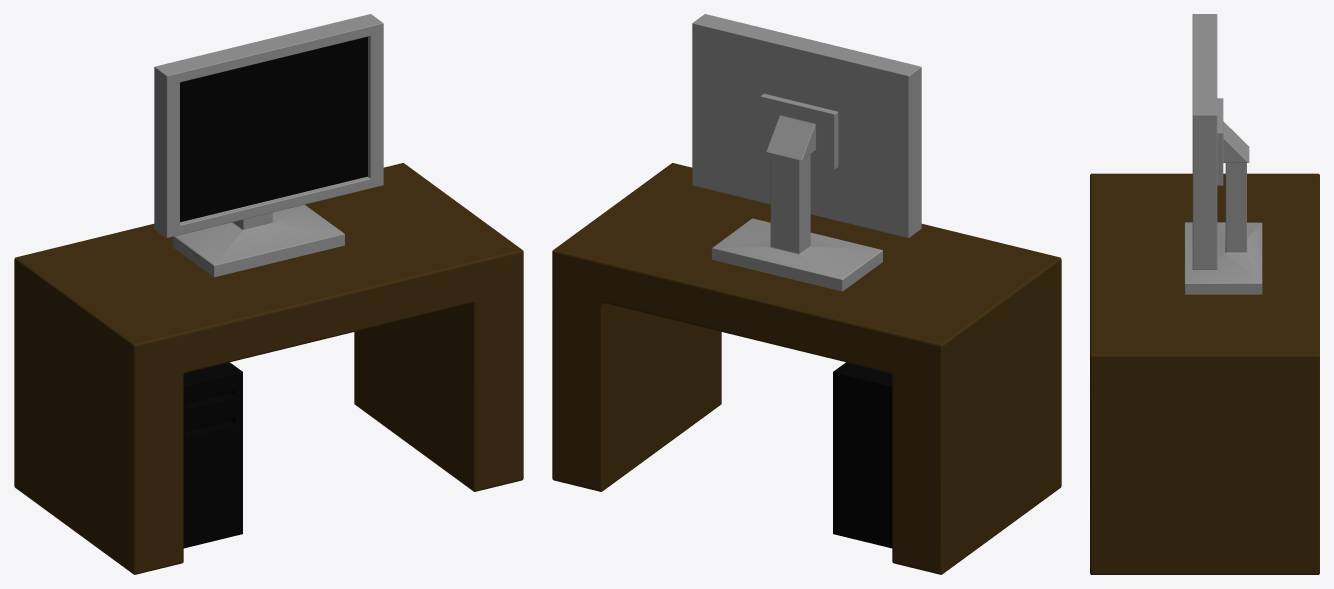
Rendered from DeskWithComputer.fbx.
3 renders of one model, left to right at view 1: azimuth 30°, elevation 25°; view 2: azimuth 150°, elevation 25°; view 3: azimuth 270°, elevation 25°, orthographic. The views are drawn at different scales.
Parts seen in each view (by area): view 1: Desk, Monitor, Desktop; view 2: Desk, Monitor, Desktop; view 3: Desk, Monitor.
Part boxes in pixels (bbox=[...]): Desk: bbox=[14, 163, 523, 574]; Monitor: bbox=[154, 14, 383, 277]; Desktop: bbox=[183, 362, 242, 548]; Desk: bbox=[552, 163, 1061, 574]; Monitor: bbox=[692, 14, 921, 291]; Desktop: bbox=[833, 362, 892, 548]; Desk: bbox=[1090, 173, 1319, 574]; Monitor: bbox=[1184, 14, 1262, 294].
Size of the model in its own units: 503 by 541 by 268.
